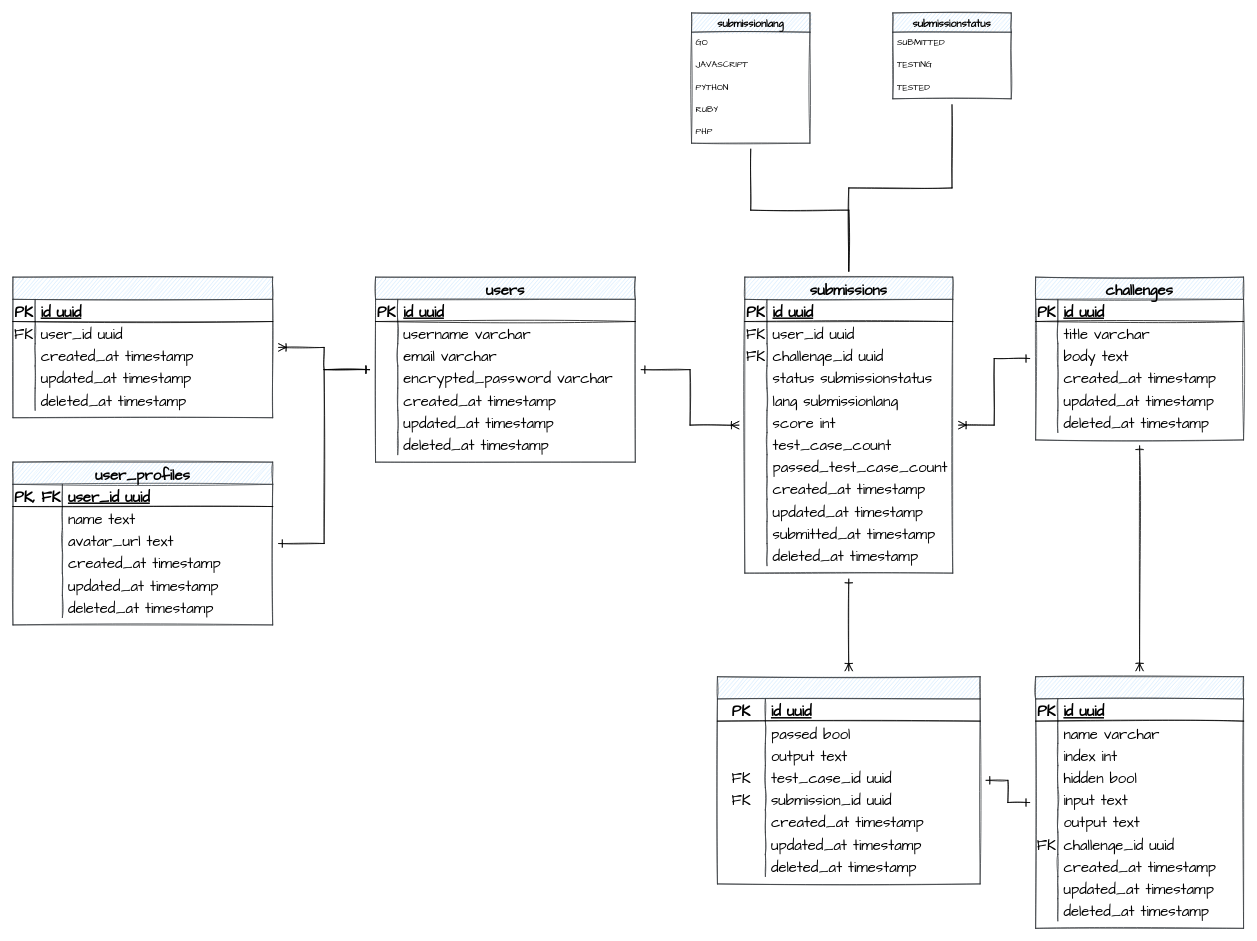
Image size: 1257x941. Some labels were removed from this diagram. The box of each missing label's shape, as (x1, y1, x2, y2) in pixels:
submission_tests: (717, 676, 980, 884)
test_cases: (1035, 676, 1244, 928)
user_login_histories: (12, 276, 273, 418)
